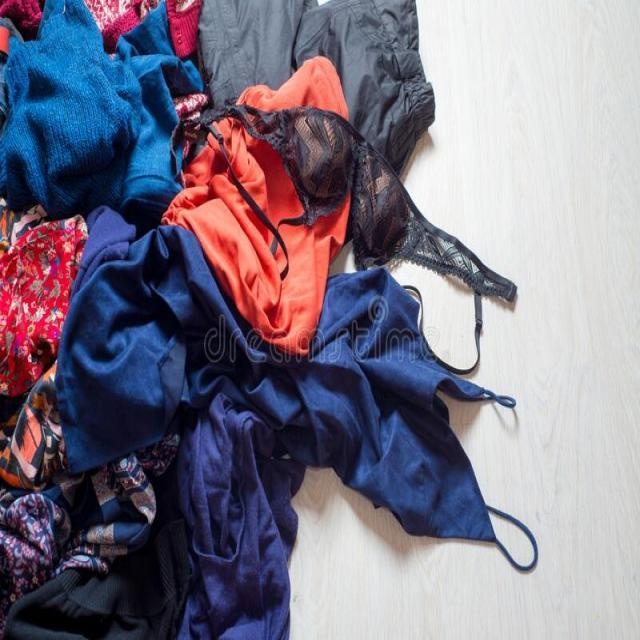clothes: (168, 79, 514, 396)
